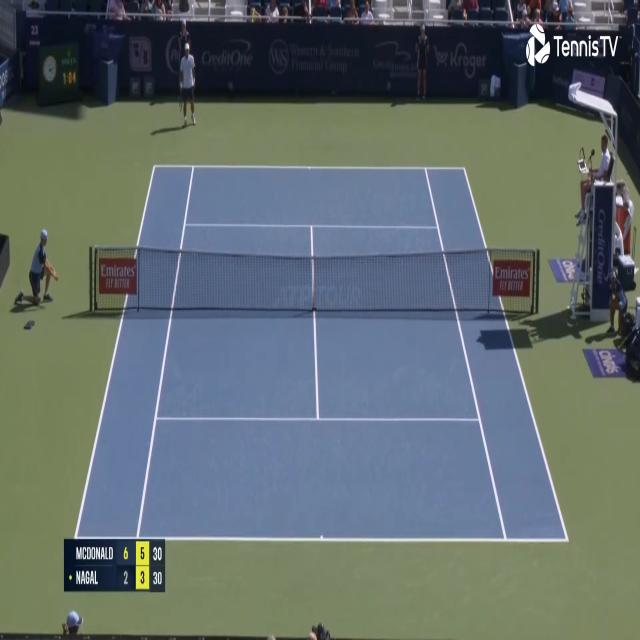tennis-player: (178, 40, 198, 128)
